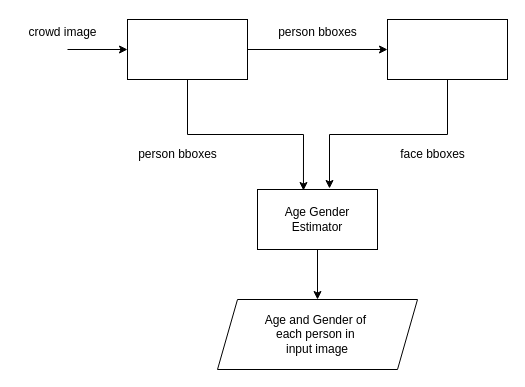
Some shapes in this 525 by 387 pixel diagram are drawn without their labels. Each missing label, with the centre of its shape:
"Face Detector" belongs at (x=447, y=49).
"Person Detector" belongs at (x=187, y=49).
